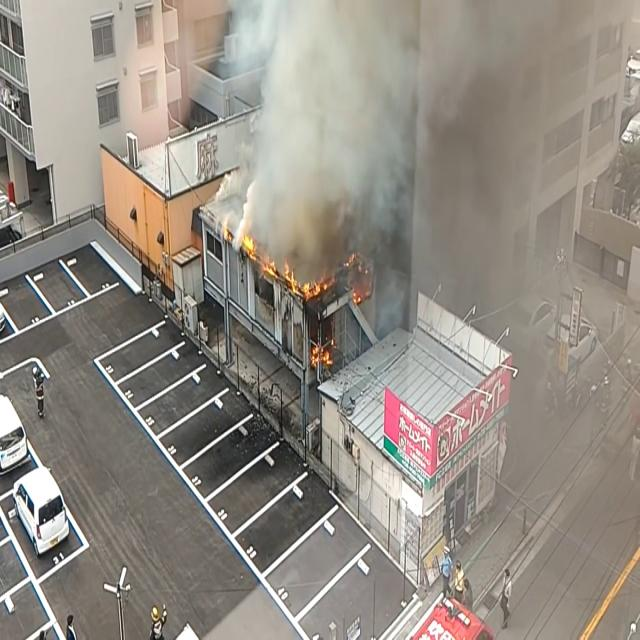Fire: (240, 236, 330, 302)
Smoke: (230, 0, 581, 305)
